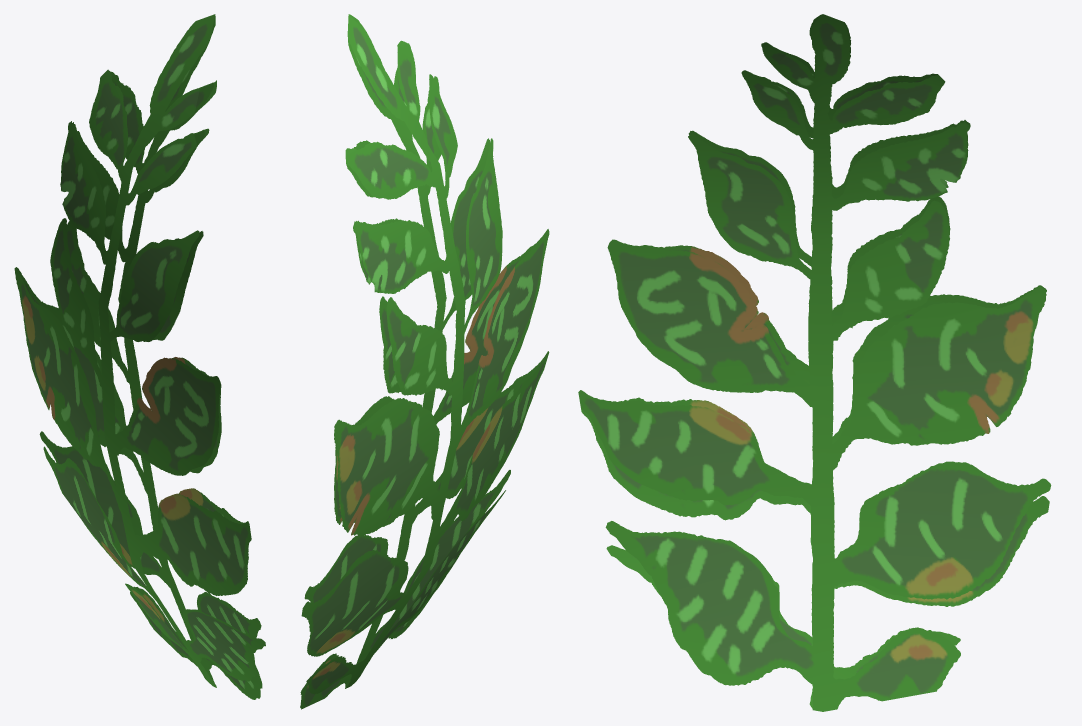
The model's file is MBL_Fern_leaf.fbx.
3 renders of one model, left to right at view 1: azimuth 30°, elevation 25°; view 2: azimuth 150°, elevation 25°; view 3: azimuth 270°, elevation 25°, orthographic. The views are drawn at different scales.
Visible parts, largest first — view 1: MBL_Fern_leaf; view 2: MBL_Fern_leaf; view 3: MBL_Fern_leaf.
Boxes of the visible parts, x1,y1,x2,y2 form: MBL_Fern_leaf: (14, 14, 265, 699); MBL_Fern_leaf: (300, 14, 549, 709); MBL_Fern_leaf: (578, 14, 1051, 711).
Size of the model in its own units: 0.4655 by 2.64 by 1.68.
Materials: 1 (1 with a texture image).
